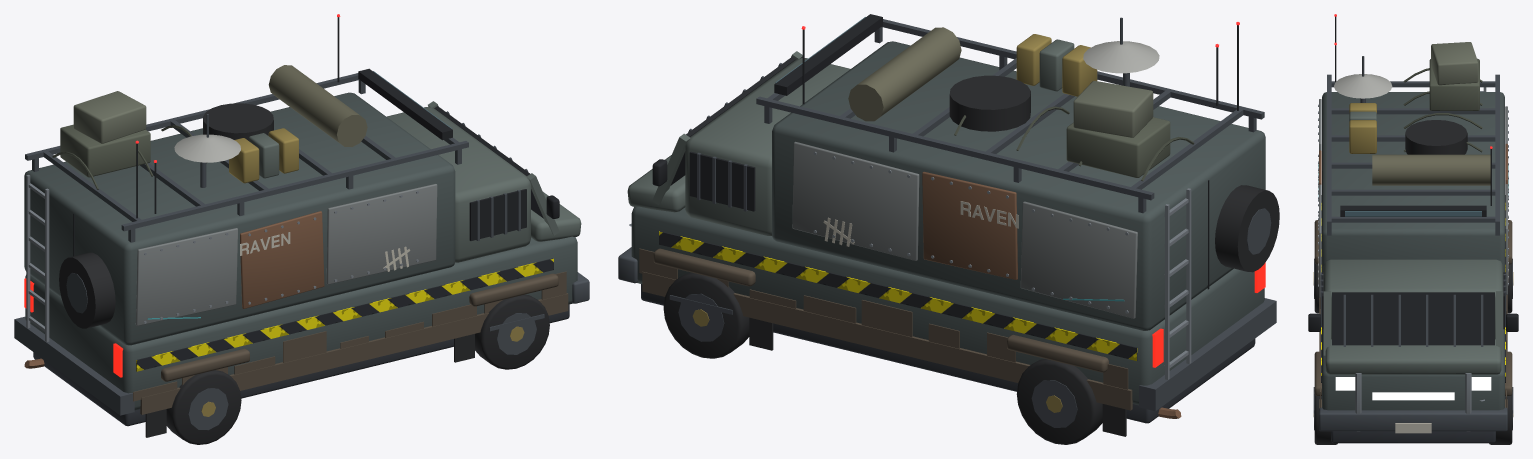
File: van.glb
The picture shows the model from 3 angles, left to right: view 1: azimuth 30°, elevation 25°; view 2: azimuth 150°, elevation 25°; view 3: azimuth 270°, elevation 25°; orthographic projection. The views are drawn at different scales.
Visible parts, largest first — view 1: Body; view 2: Body; view 3: Body, Headlights.
Part boxes in pixels (box(x1,y1,x2,y2)): Body: box(14, 14, 589, 444); Body: box(618, 14, 1279, 444); Body: box(1308, 14, 1518, 444); Headlights: box(1335, 377, 1491, 400).
Size of the model in its own units: 5.38 by 3.27 by 2.3.
Materials: 23 (1 with a texture image).
